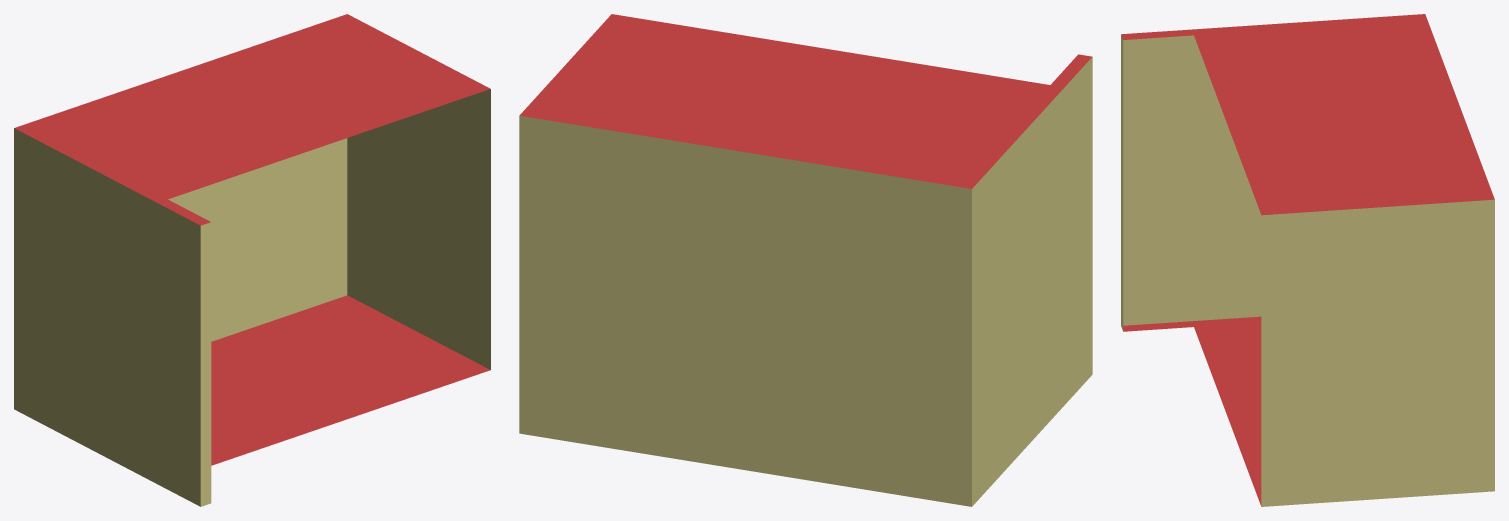
3 views of the same model, side by side, from view 1: azimuth 30°, elevation 25°; view 2: azimuth 150°, elevation 25°; view 3: azimuth 270°, elevation 25° (orthographic). The views are drawn at different scales.
Bounding box in the file's own units: 8.95 × 7.02 × 6.04.
